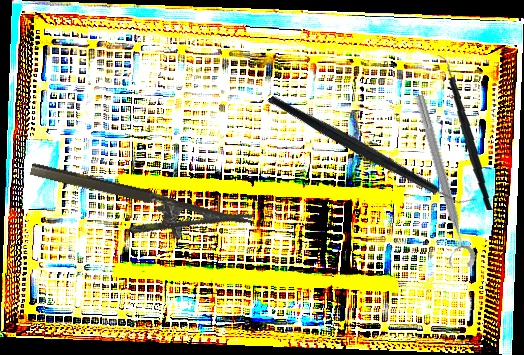Chopper: (266, 38, 479, 262), (422, 54, 505, 211)
Fixation Ring: (400, 92, 479, 273)
Needle Holder: (22, 159, 253, 261)
